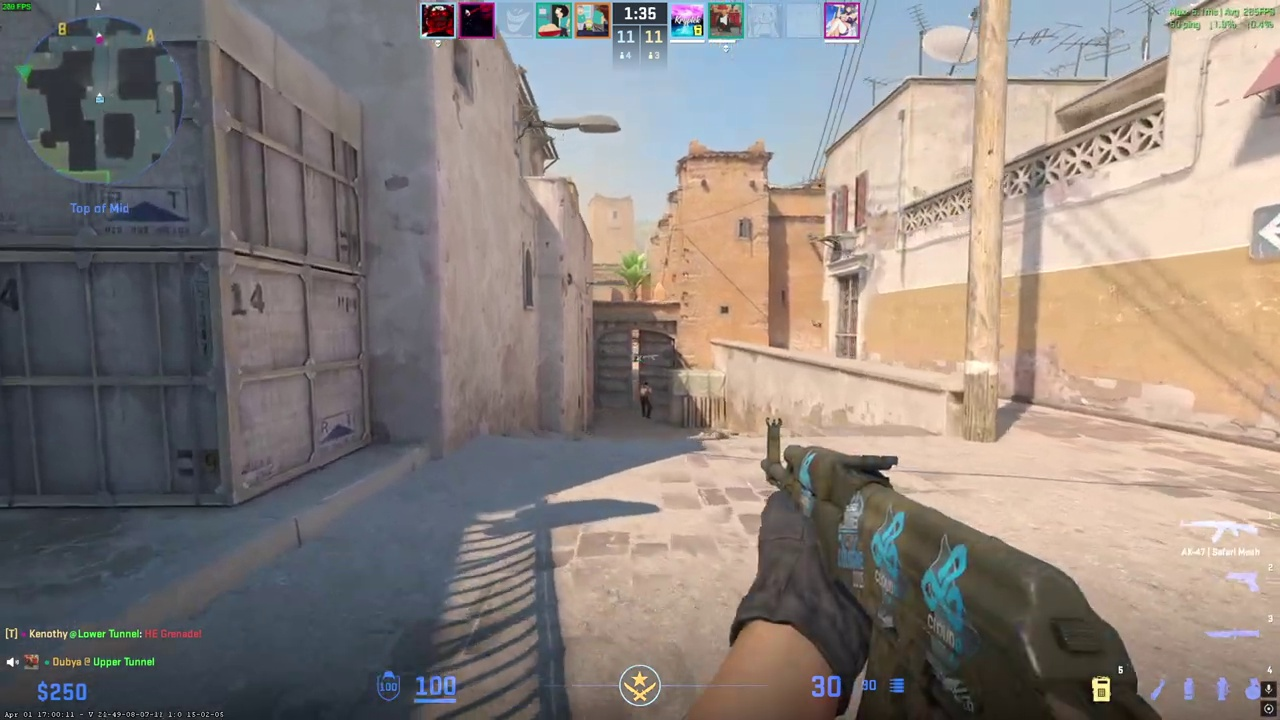Terrorist: (638, 381, 654, 419)
